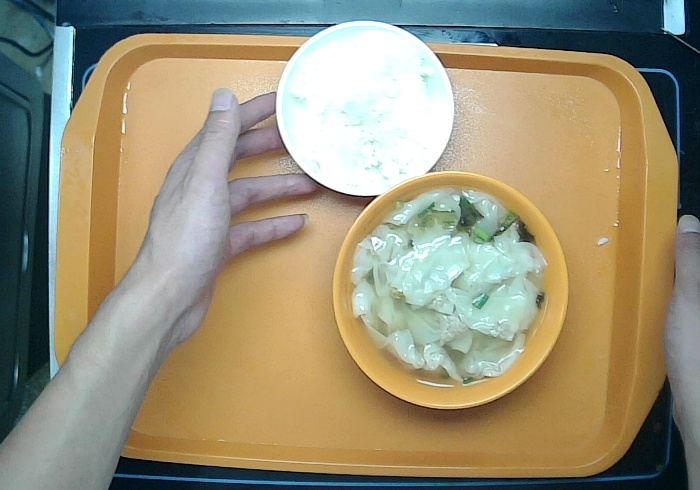NLDX-Fan_Wan: (274, 18, 456, 199)
NLDX-Hun_Tun_Wan: (329, 168, 570, 412)
